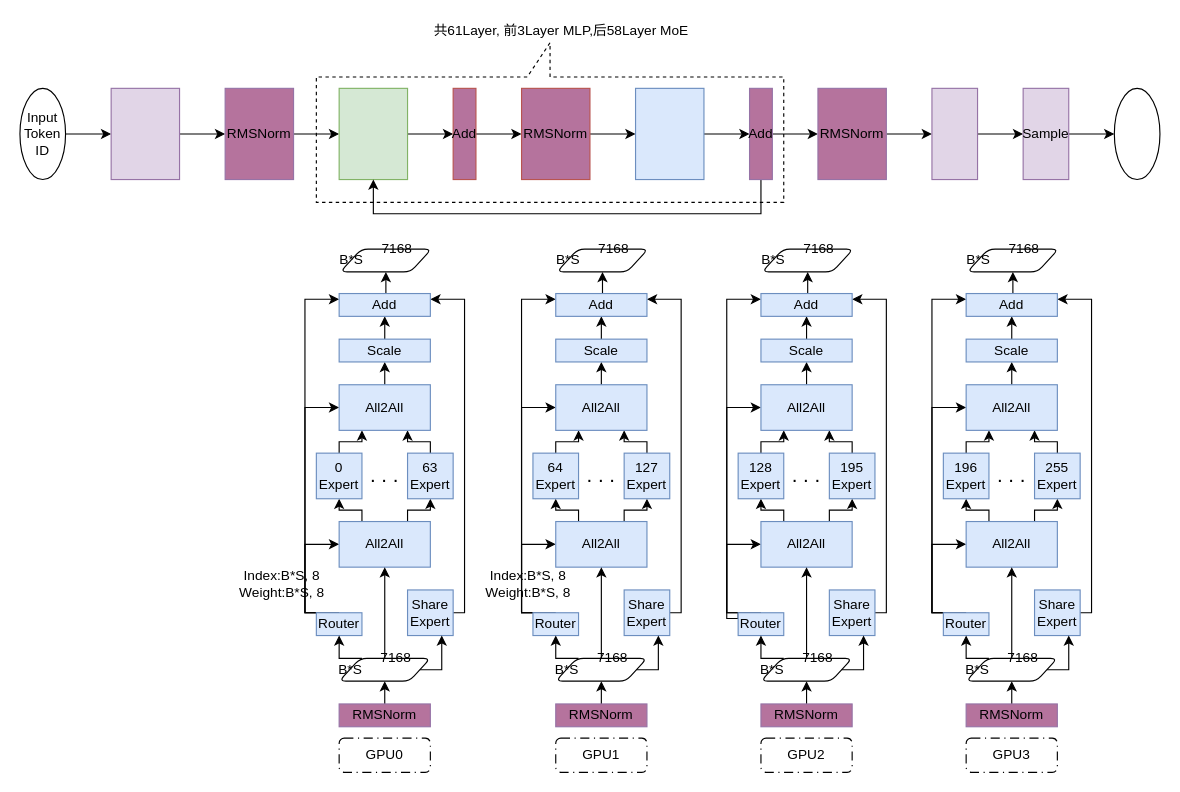
Some shapes in this 1180 by 792 pixel diagram are drawn without their labels. The centre of each missing label's shape, as x and y in pixels:
"Attention" goes at [373,133].
"Embedding" goes at [145,133].
"MoE" goes at [669,133].
"Output Token ID" goes at [1136,133].
"Token Linear" goes at [954,133].
